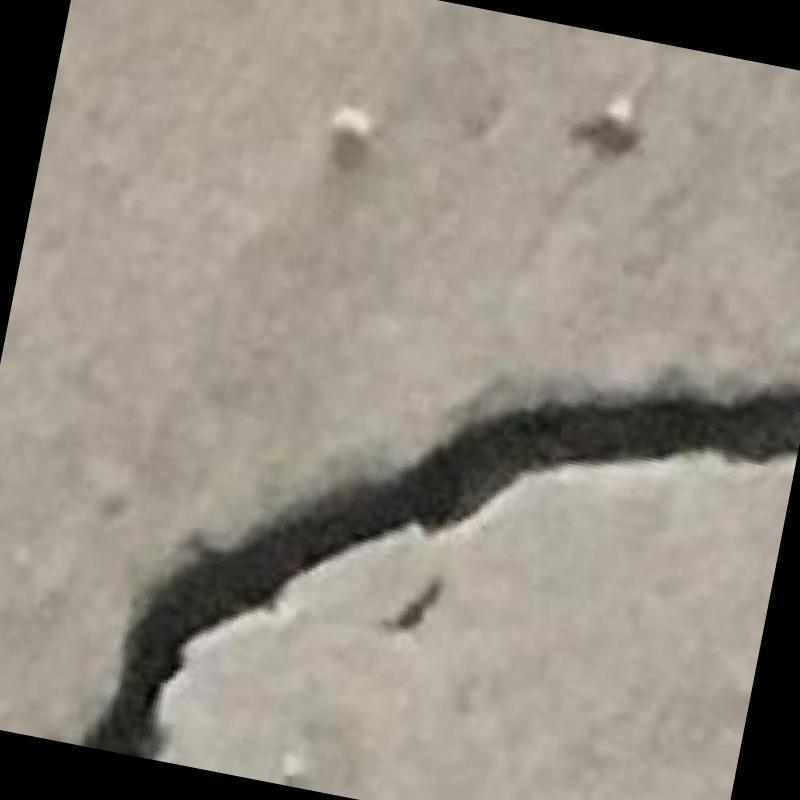crack: (81, 384, 800, 757)
